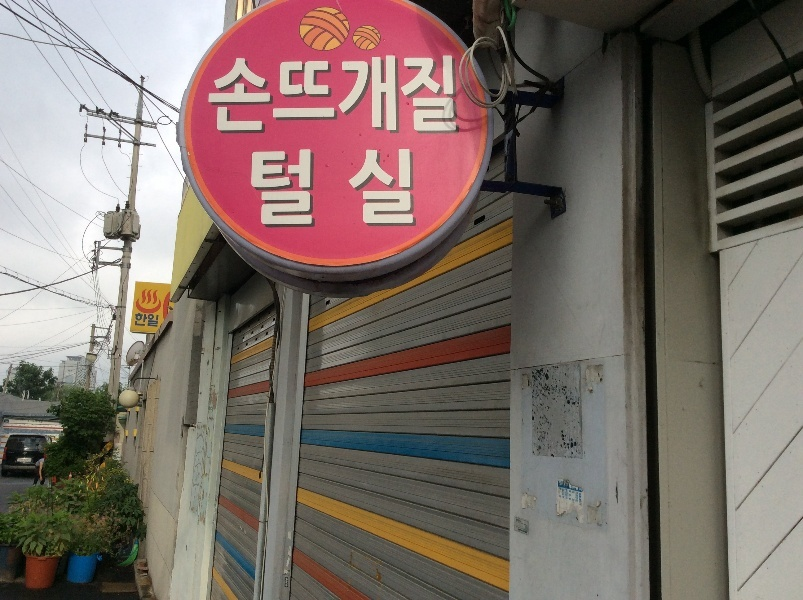text: (257, 148, 272, 230), (273, 148, 288, 230), (289, 148, 304, 230), (305, 148, 320, 230), (321, 148, 336, 230), (337, 148, 352, 230), (353, 148, 368, 230), (369, 148, 384, 230), (385, 148, 400, 230), (209, 54, 224, 135), (225, 54, 240, 135), (241, 54, 256, 135), (257, 54, 272, 135), (273, 54, 288, 135), (289, 54, 304, 135), (305, 54, 320, 135), (321, 54, 336, 135), (337, 54, 352, 135), (353, 54, 368, 135), (369, 54, 384, 135), (385, 54, 400, 135), (401, 54, 416, 135), (417, 54, 432, 135), (433, 54, 448, 135), (401, 148, 415, 230), (449, 54, 459, 135), (249, 148, 256, 230), (145, 312, 160, 329), (562, 488, 576, 500), (579, 492, 592, 504), (135, 312, 144, 329), (566, 489, 576, 500), (568, 490, 576, 501), (207, 54, 208, 135), (561, 480, 569, 489), (518, 528, 528, 535), (515, 518, 528, 523), (572, 490, 576, 503), (577, 486, 583, 493), (18, 459, 32, 462), (69, 373, 80, 376), (577, 491, 579, 503), (68, 370, 80, 372), (24, 452, 32, 455), (558, 480, 560, 489), (574, 486, 576, 493), (575, 491, 576, 503), (559, 487, 560, 499), (561, 487, 562, 499)
